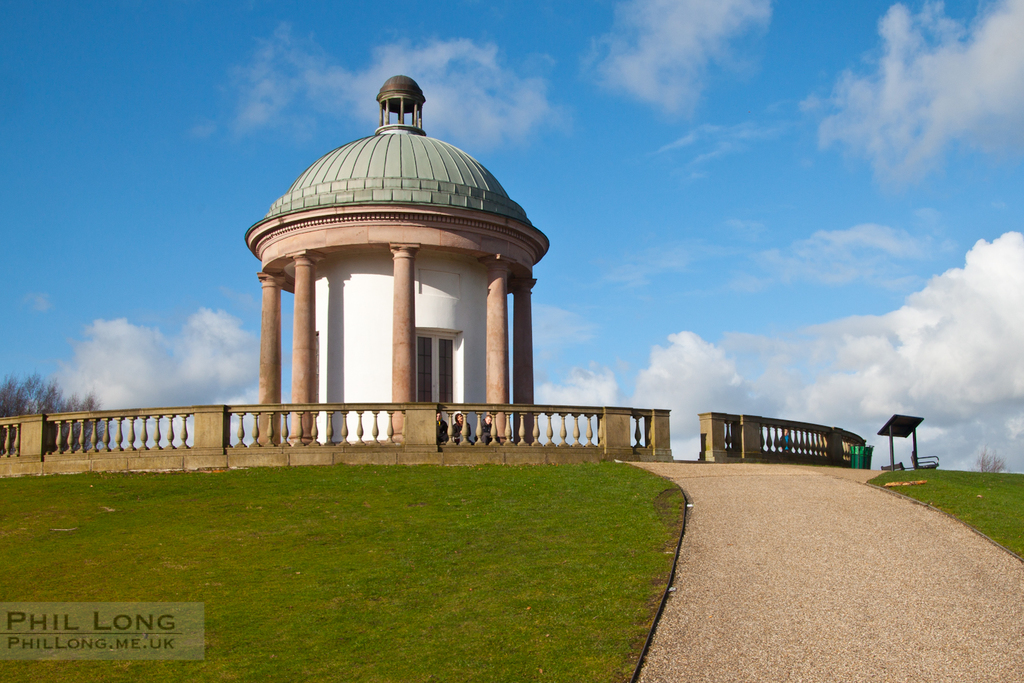Tree: (0, 369, 110, 456), (971, 443, 992, 474), (987, 451, 1009, 472)
